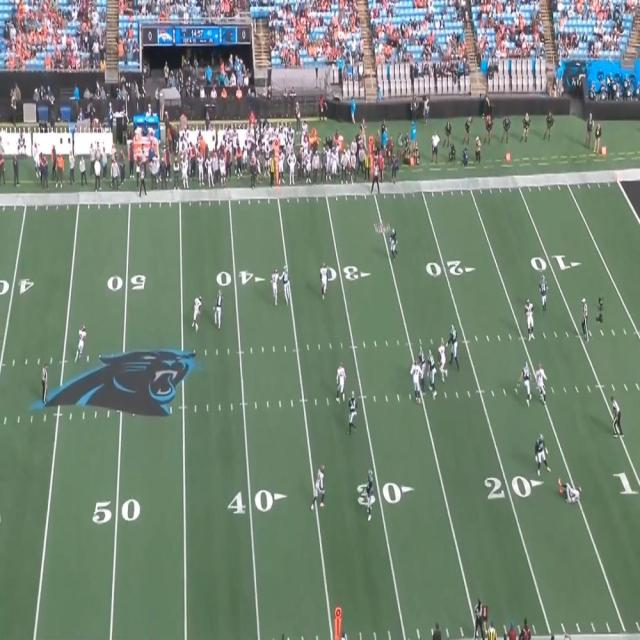db: (192, 294, 202, 330), (79, 324, 89, 358), (318, 265, 328, 299), (270, 267, 278, 303)
lb: (314, 463, 326, 507), (525, 296, 534, 340), (336, 360, 346, 398)
qb: (542, 275, 550, 309)
skill: (280, 267, 290, 304), (348, 394, 357, 432), (214, 293, 223, 327), (390, 225, 397, 258)
